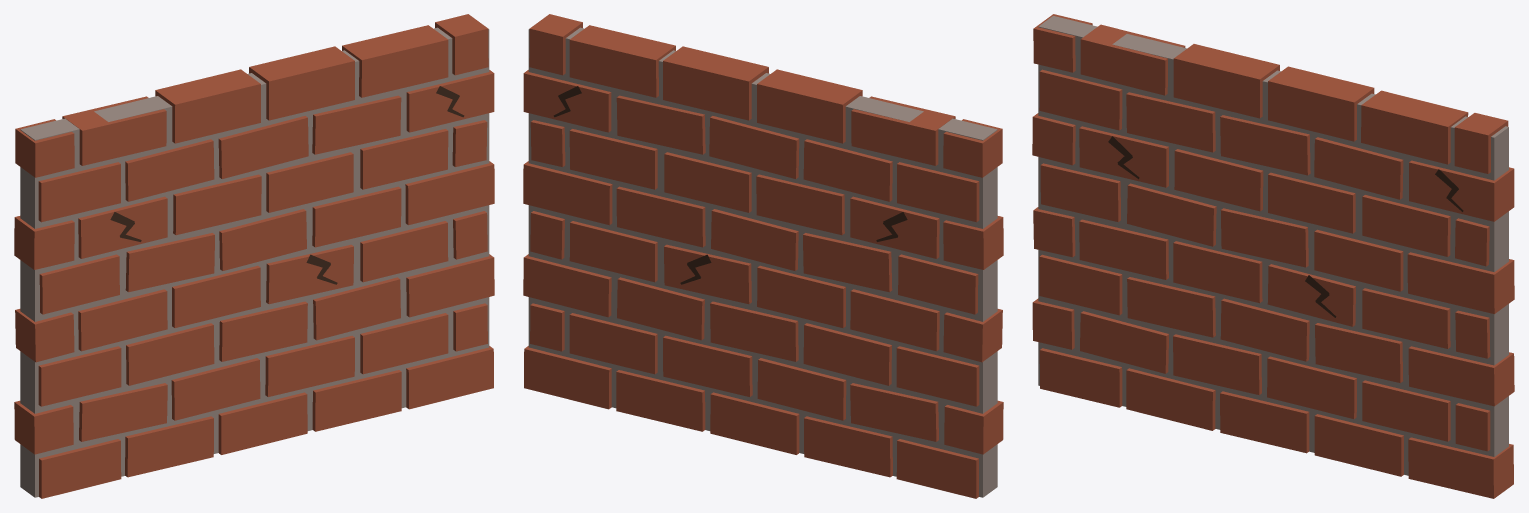
File: wall_brick_crack1.glb
3 renders of one model, left to right at view 1: azimuth 30°, elevation 25°; view 2: azimuth 150°, elevation 25°; view 3: azimuth 330°, elevation 25°, orthographic.
Parts seen in each view (by area): view 1: Body; view 2: Body; view 3: Body.
Boxes of the visible parts, x1,y1,x2,y2 form: Body: (14, 14, 494, 498); Body: (523, 14, 1003, 498); Body: (1032, 14, 1514, 498).
Size of the model in its own units: 3.99 by 3 by 0.31.
